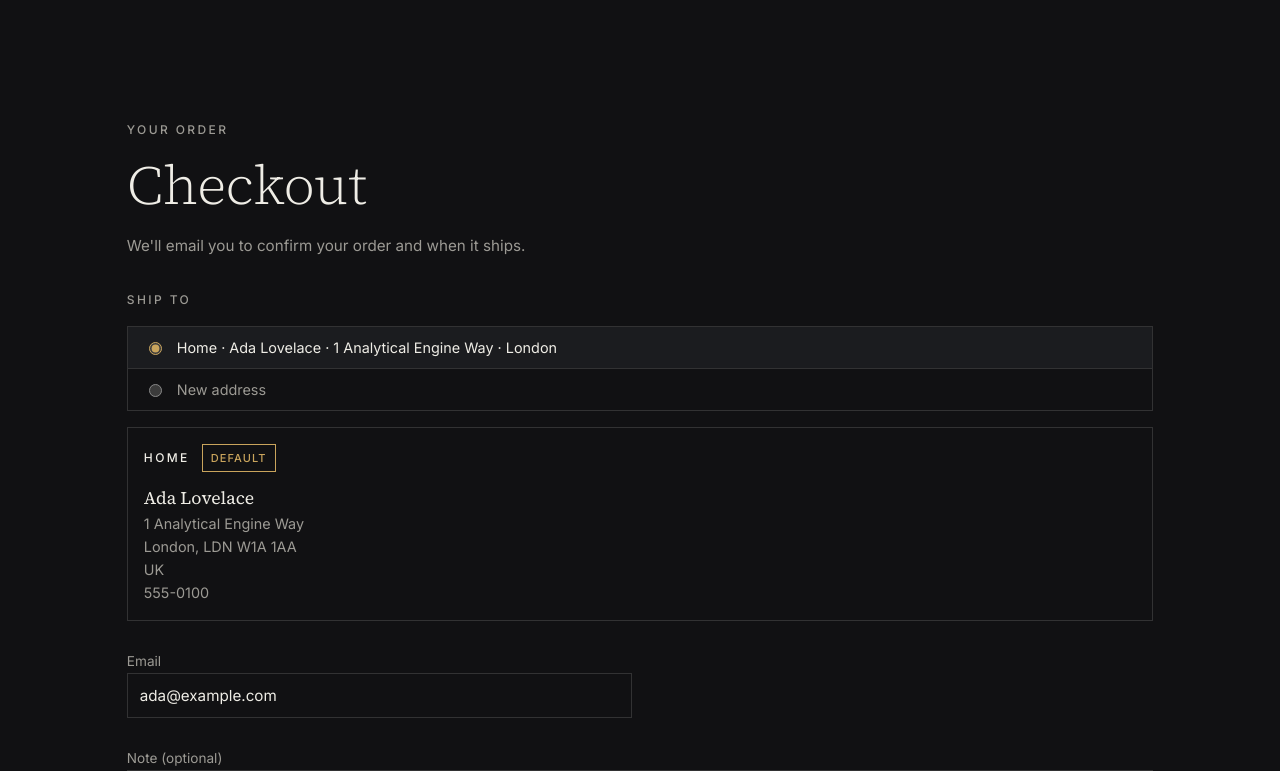
Test case: CheckoutPage › with saved addresses › choosing "New address" shows the inputs and a checked save checkbox
Expected: the element named "Ship to" is shown, top-left (127, 326), bottom-right (1153, 411)
Click the radio button labelled "New address" at point(155, 391), box top-left (149, 384), bottom-right (162, 397)
(page scrolled)
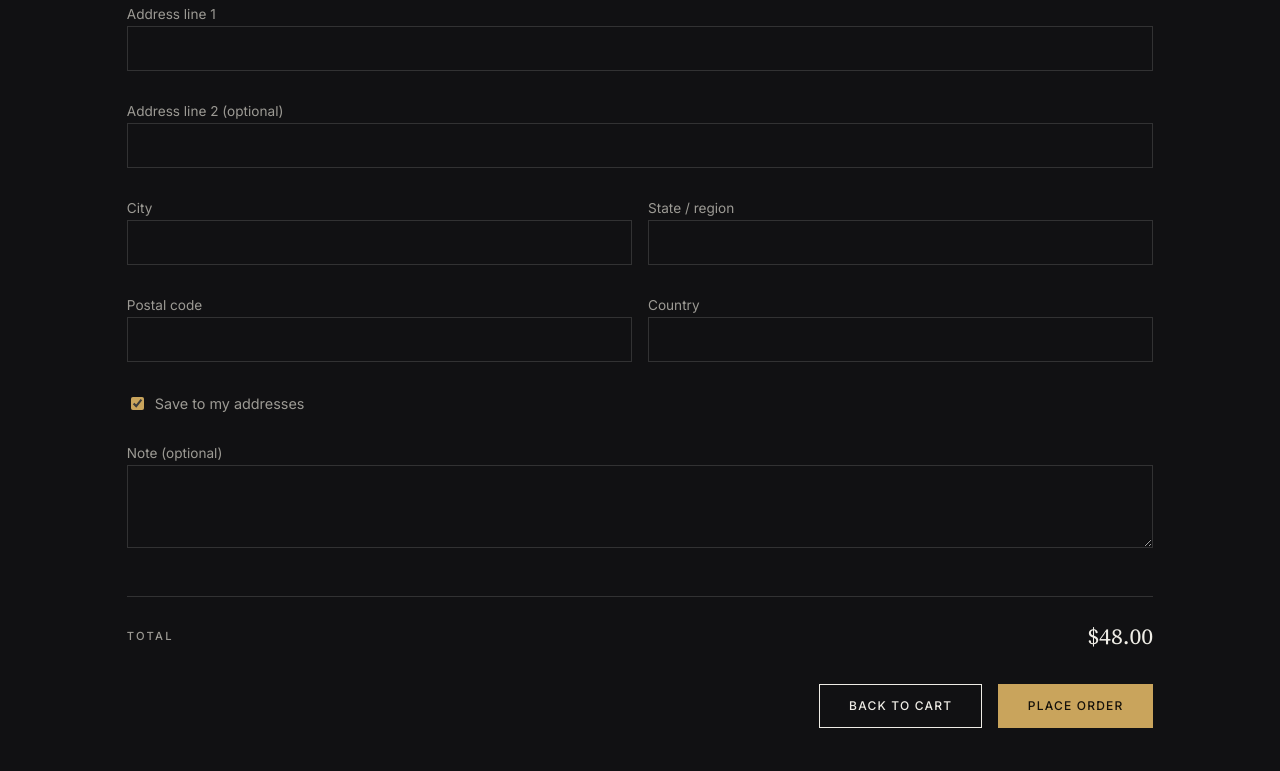
Expected: the field labelled "Address line 1" is shown, top-left (127, 26), bottom-right (1153, 71)
Expected: the checkbox labelled "Save to my addresses" is checked, top-left (131, 397), bottom-right (144, 410)
